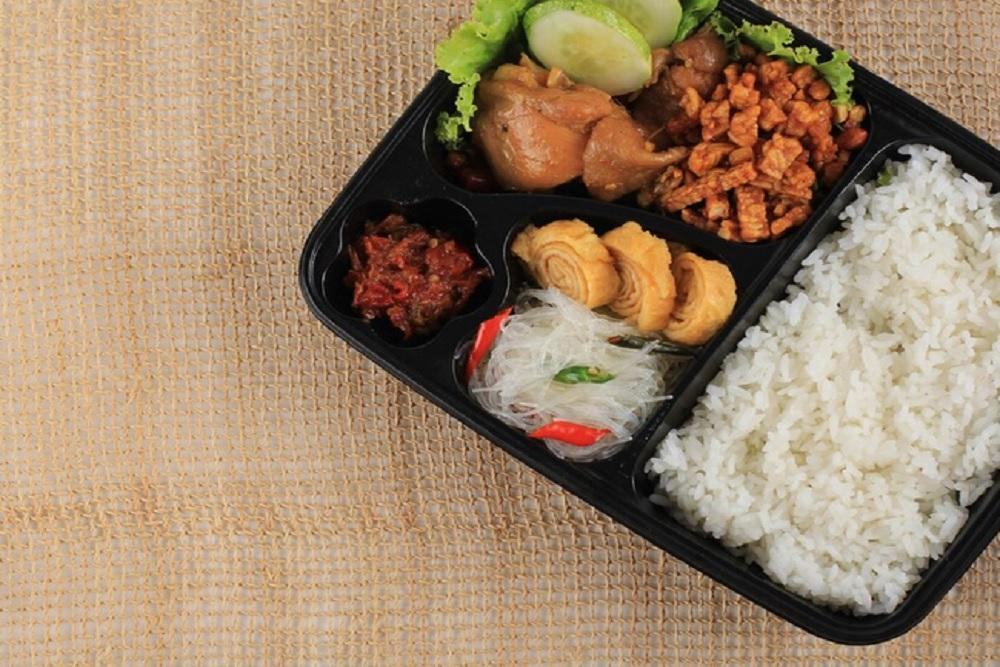buah_sayur_lainnya: (366, 235, 465, 305), (532, 5, 651, 63)
daging: (503, 100, 611, 170)
kacang_legume: (712, 99, 827, 188)
makanan_berpati: (780, 321, 984, 474), (514, 333, 651, 421)
